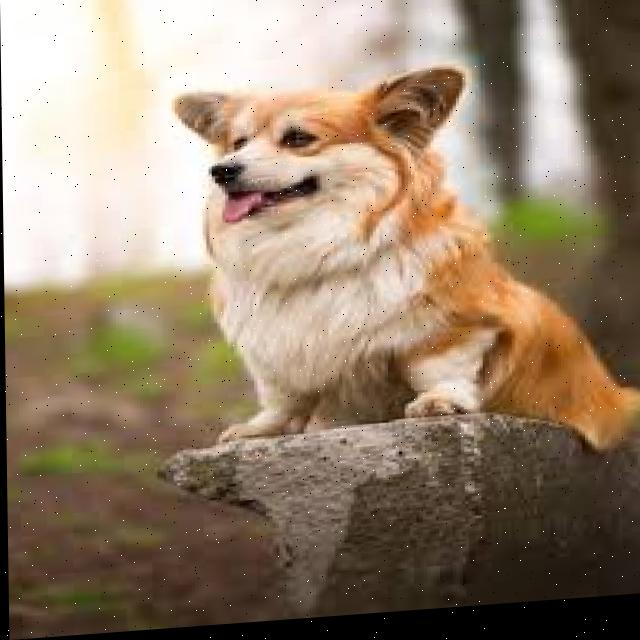CORGI: (136, 28, 640, 486)
